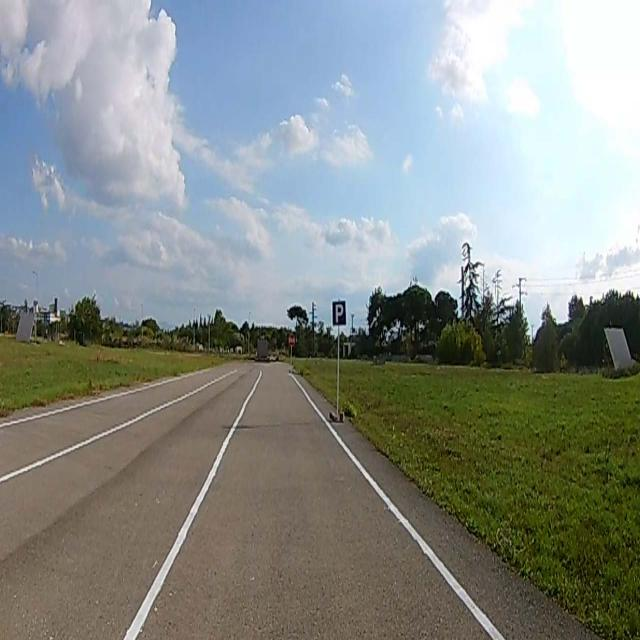park: (332, 300, 345, 322)
